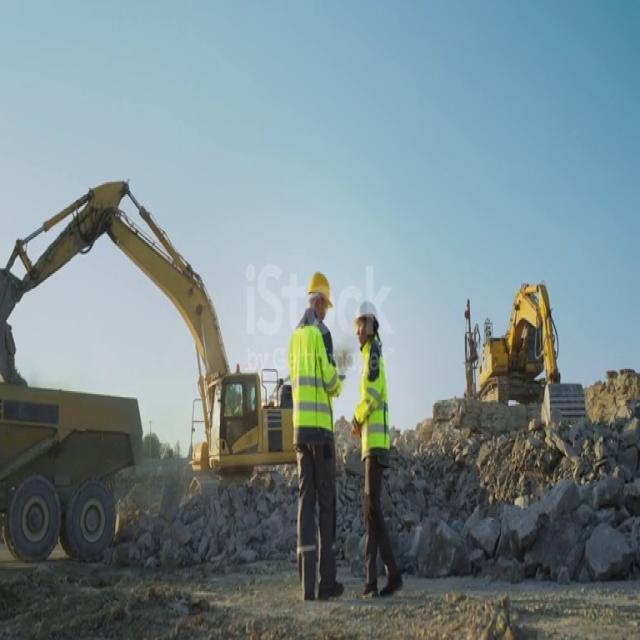capacete: (301, 264, 337, 312), (349, 294, 382, 332)
